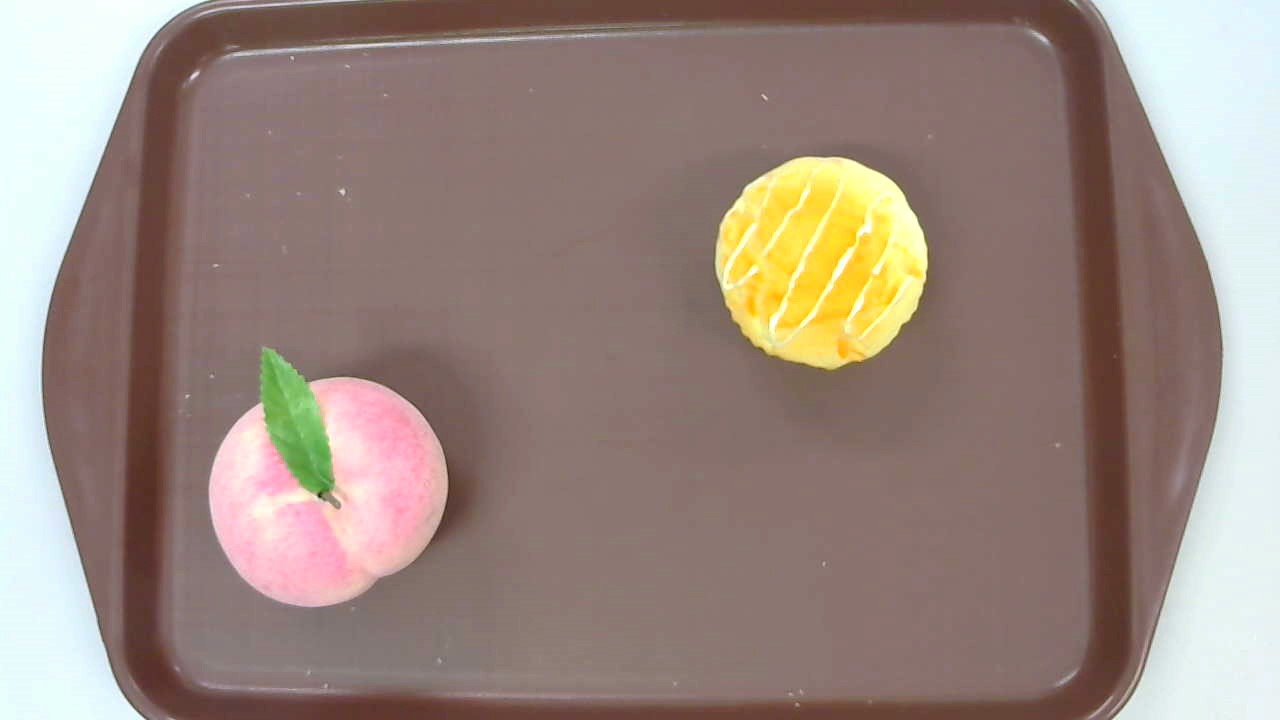cupcake: (712, 157, 928, 373)
peach: (209, 346, 447, 606)
